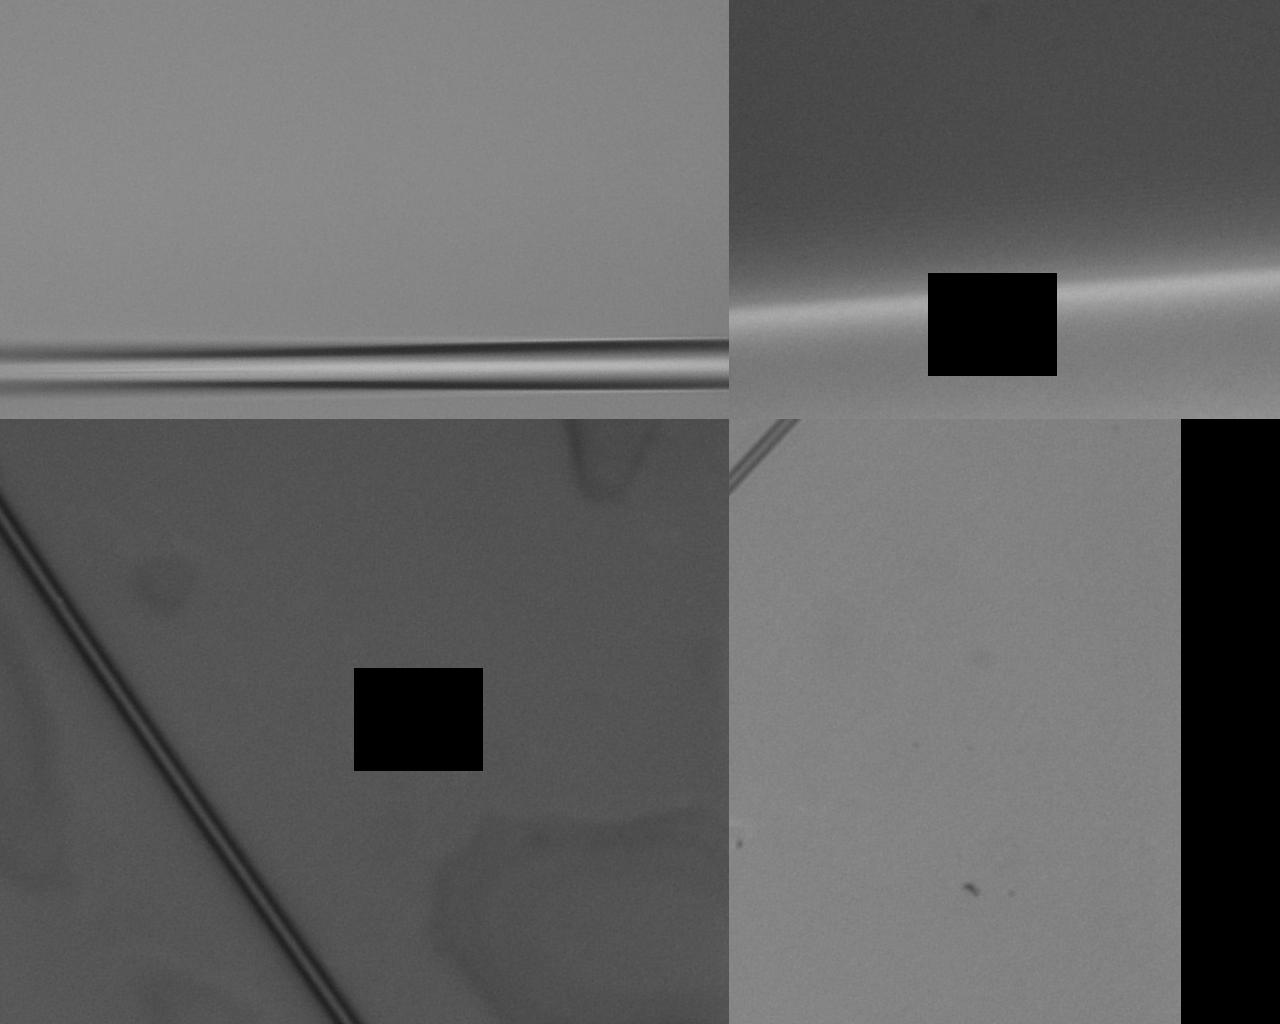fiber: (900, 696, 1280, 1024), (768, 231, 1158, 374), (0, 397, 768, 416)
